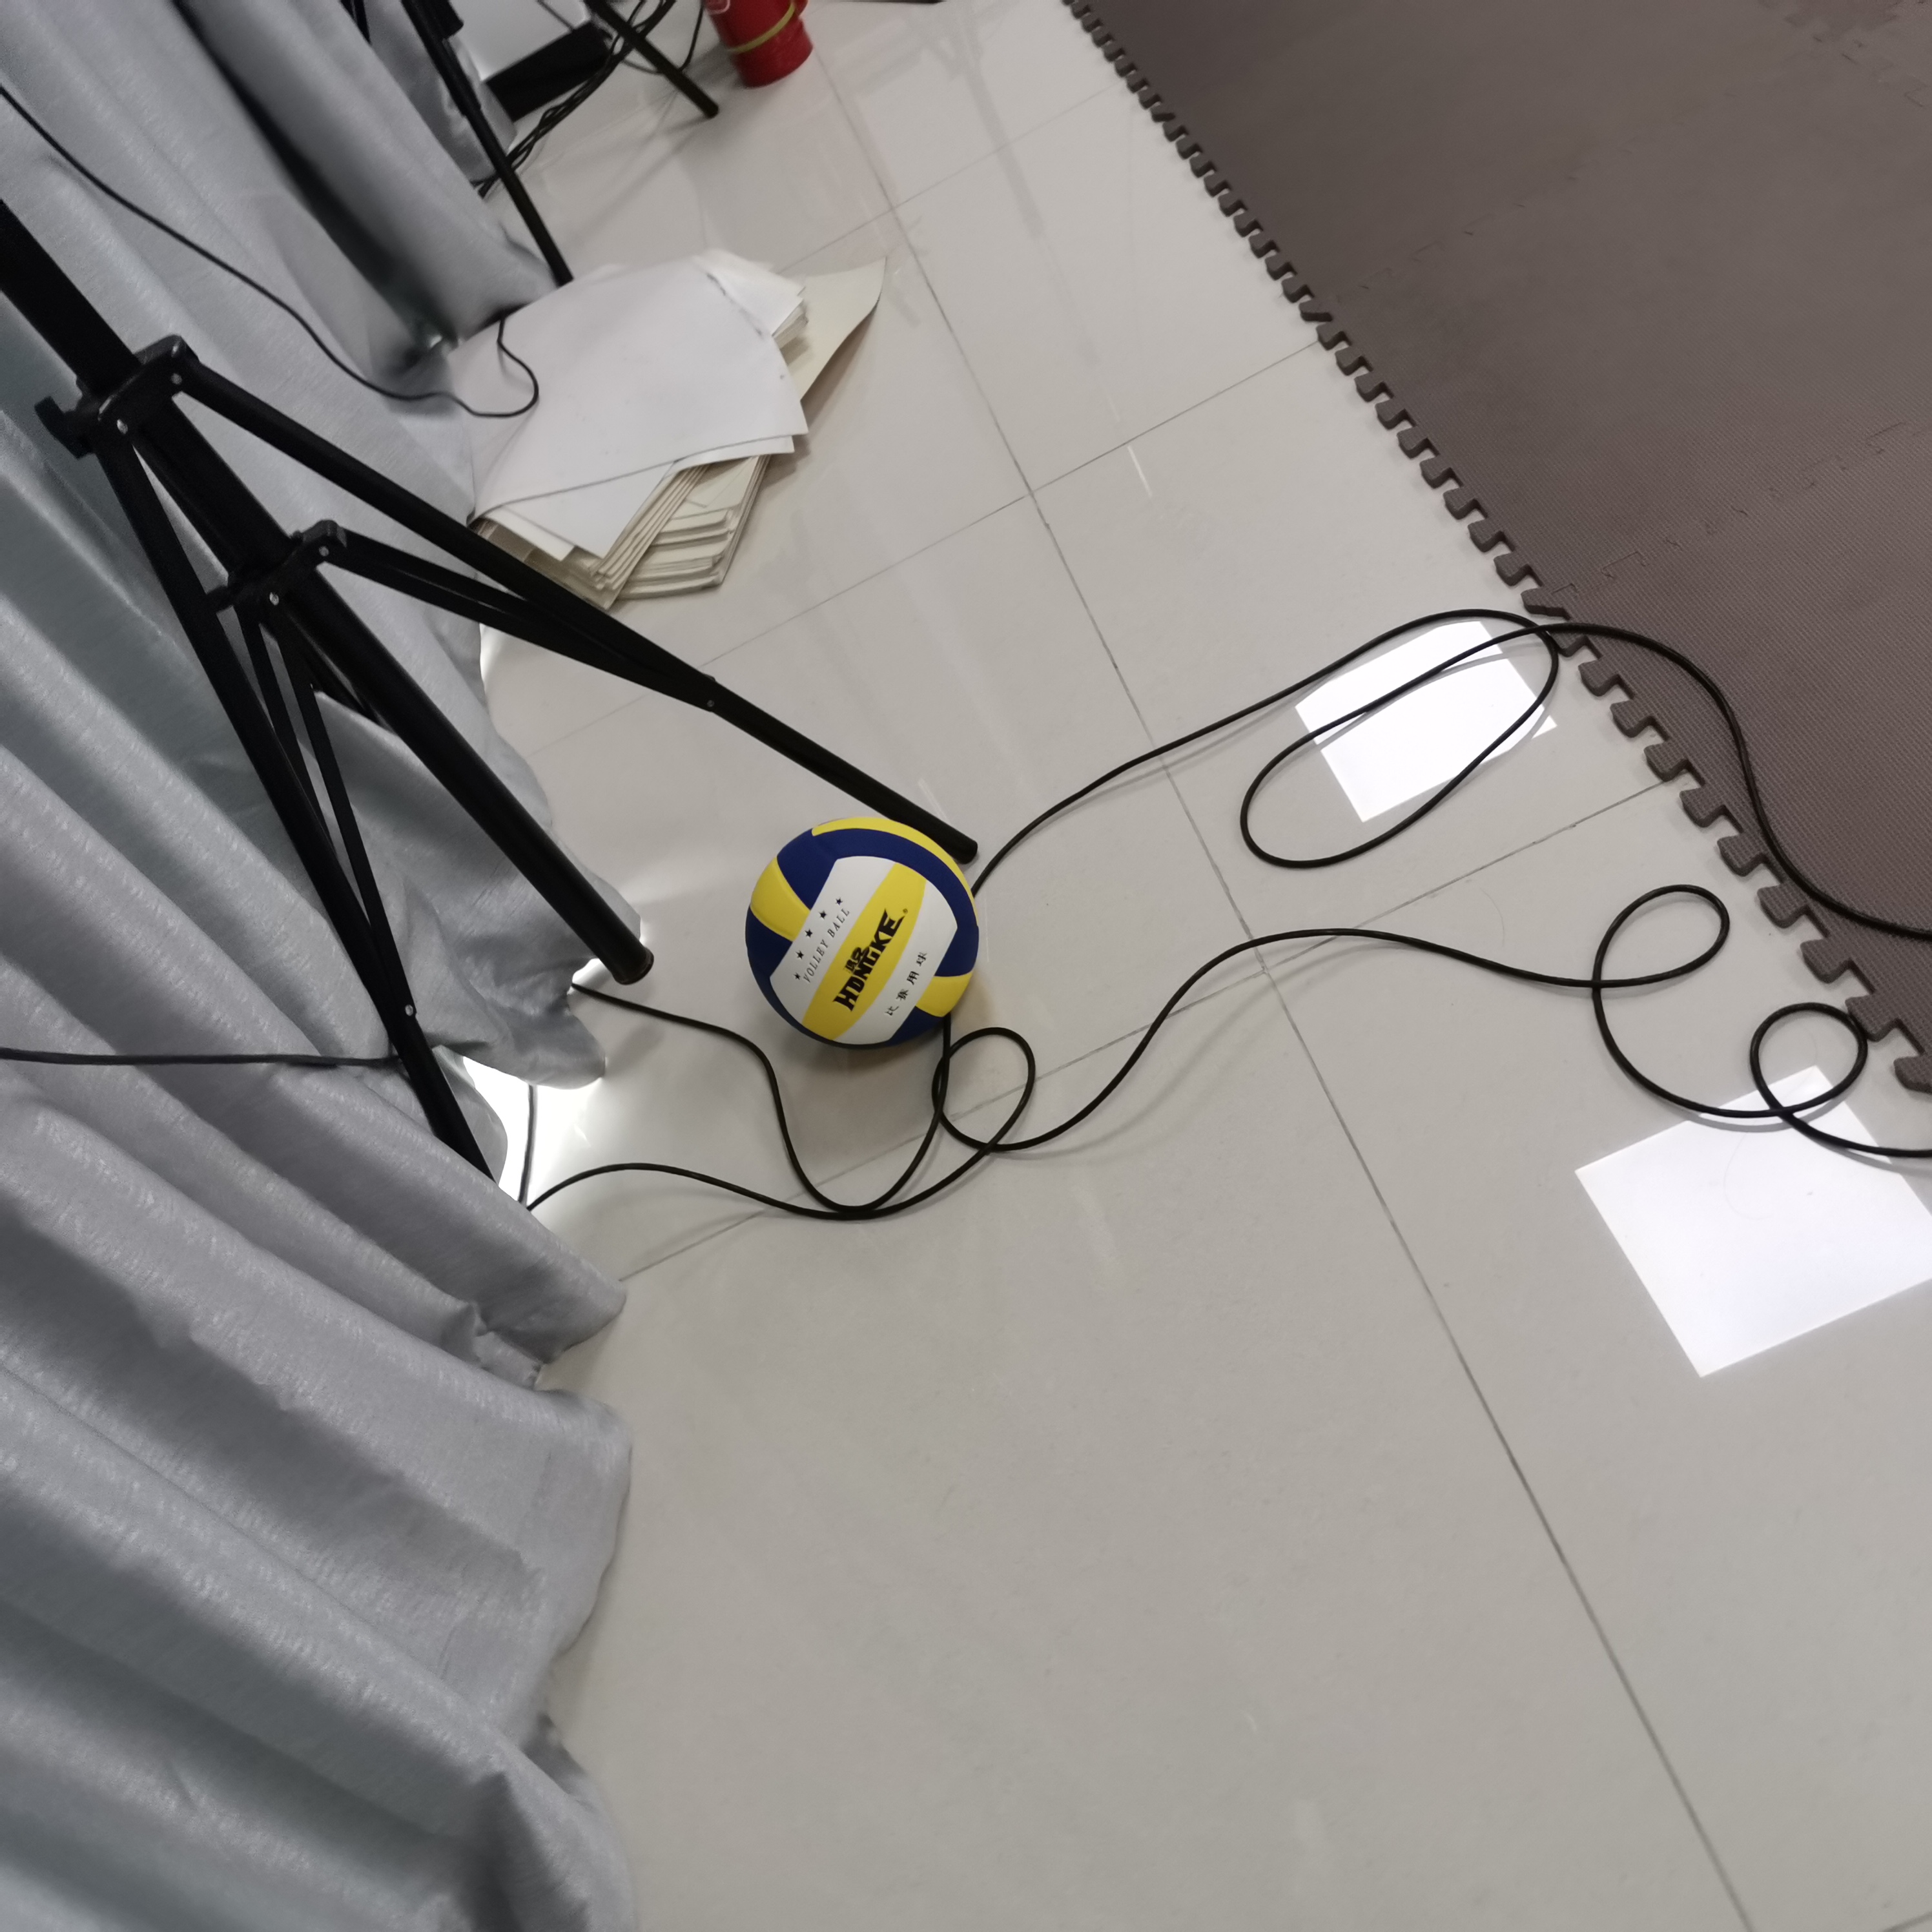volleyball: (741, 817, 980, 1049)
